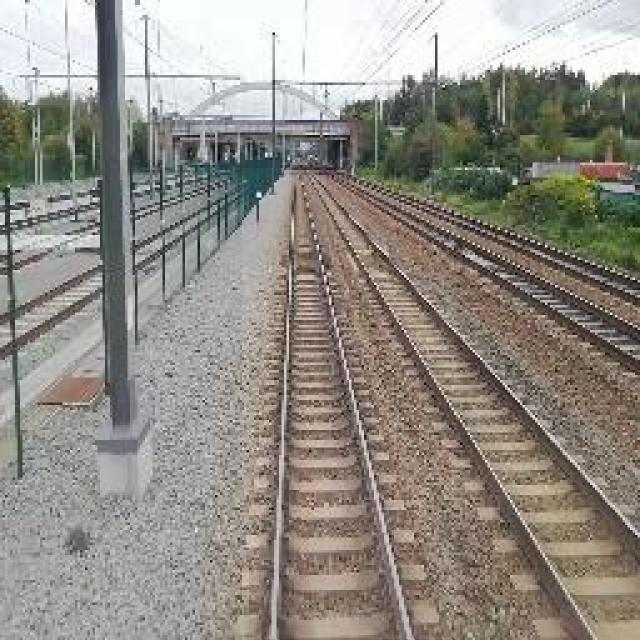rail: (244, 169, 458, 640)
